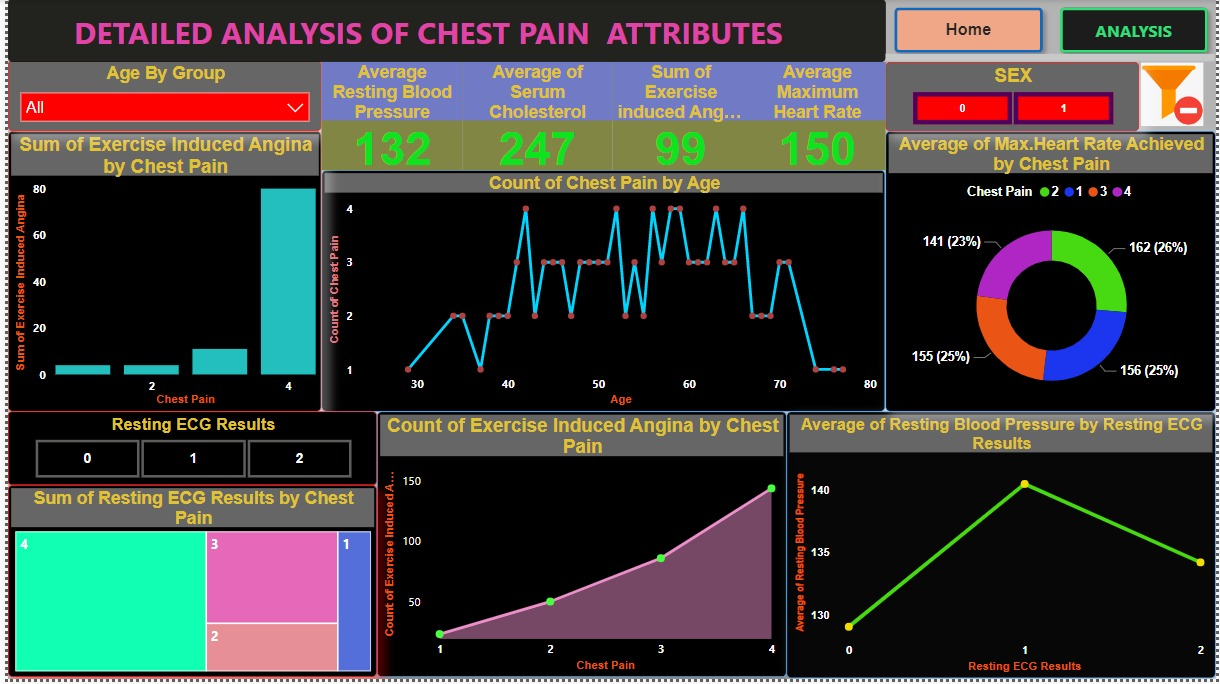

What the dashboard file says about the page in this screenshot:
{"tool":"powerbi","page":{"name":"ANALYSIS","canvas":[1280,720],"ordinal":1},"visuals":[{"type":"lineChart","fields":{"Category":["Heart Disease Dataset.Age"],"Y":["Count(Heart Disease Dataset.Chest Pain)"]},"box":[332.2,181.2,597.6,255.9],"z":0},{"type":"stackedAreaChart","fields":{"Category":["Heart Disease Dataset.Chest Pain"],"Y":["CountNonNull(Heart Disease Dataset.Exercise Induced Angina)"]},"box":[391,437.1,433.9,281.3],"z":1000},{"type":"lineChart","fields":{"Category":["Heart Disease Dataset.Resting ECG Results"],"Y":["Avg(Heart Disease Dataset.Resting Blood Pressure)"]},"box":[824.9,437.1,454.6,282.9],"z":2000},{"type":"donutChart","fields":{"Category":["Heart Disease Dataset.Chest Pain"],"Y":["Avg(Heart Disease Dataset.Max.Heart Rate Achieved)"]},"box":[929.8,139.9,349.7,297.2],"z":3000},{"type":"clusteredColumnChart","fields":{"Category":["Heart Disease Dataset.Chest Pain"],"Y":["Sum(Heart Disease Dataset.Exercise Induced Angina)"]},"box":[0,139.9,332.2,297.2],"z":4000},{"type":"treemap","fields":{"Values":["Sum(Heart Disease Dataset.Resting ECG Results)"],"Group":["Heart Disease Dataset.Chest Pain","Heart Disease Dataset.Resting ECG Results"]},"box":[0,515,391,203.4],"z":5000},{"type":"image","box":[1187.3,62,92.2,77.9],"z":6000},{"type":"slicer","title":"Age By Group","fields":{"Values":["Heart Disease Dataset.Age (bins)"]},"box":[0,65.2,332.2,74.7],"z":7000},{"type":"slicer","title":"SEX","fields":{"Values":["Heart Disease Dataset.Sex"]},"box":[929.8,66.8,268.6,73.1],"z":8000},{"type":"textbox","box":[0,0,929.8,66.8],"z":9000},{"type":"card","title":"Average of Serum Cholesterol","fields":{"Values":["Avg(Heart Disease Dataset.Serum Cholestrrol im Mg/Dl)"]},"box":[481.6,66.8,158.9,114.4],"z":10000},{"type":"card","title":"Average Resting Blood Pressure","fields":{"Values":["Avg(Heart Disease Dataset.Resting Blood Pressure)"]},"box":[332.2,66.8,149.4,114.4],"z":11000},{"type":"card","title":"Sum of Exercise induced Angine","fields":{"Values":["Sum(Heart Disease Dataset.Exercise Induced Angina)"]},"box":[640.5,66.8,144.6,114.4],"z":12000},{"type":"card","title":"Average Maximum Heart Rate","fields":{"Values":["Avg(Heart Disease Dataset.Max.Heart Rate Achieved)"]},"box":[785.2,66.8,144.6,114.4],"z":13000},{"type":"pageNavigator","box":[929.8,0,349.7,66.8],"z":14000},{"type":"slicer","title":"Resting ECG Results","fields":{"Values":["Heart Disease Dataset.Resting ECG Results"]},"box":[0,437.1,391,77.9],"z":15000}]}

Visuals, with their boxes in screenshot pixels (x1, y1, x2, y2), scaled from the page's 1280x720 canvas onto the 1220x684 screenshot:
lineChart - Heart Disease Dataset.Age x Count(Heart Disease Dataset.Chest Pain): [317,172,886,415]
stackedAreaChart - Heart Disease Dataset.Chest Pain x CountNonNull(Heart Disease Dataset.Exercise Induced Angina): [373,415,786,682]
lineChart - Heart Disease Dataset.Resting ECG Results x Avg(Heart Disease Dataset.Resting Blood Pressure): [786,415,1219,683]
donutChart - Heart Disease Dataset.Chest Pain x Avg(Heart Disease Dataset.Max.Heart Rate Achieved): [886,133,1219,415]
clusteredColumnChart - Heart Disease Dataset.Chest Pain x Sum(Heart Disease Dataset.Exercise Induced Angina): [0,133,317,415]
treemap - Sum(Heart Disease Dataset.Resting ECG Results) x Heart Disease Dataset.Chest Pain: [0,489,373,682]
image: [1132,59,1219,133]
"Age By Group" slicer: [0,62,317,133]
"SEX" slicer: [886,63,1142,133]
textbox: [0,0,886,63]
"Average of Serum Cholesterol" card: [459,63,610,172]
"Average Resting Blood Pressure" card: [317,63,459,172]
"Sum of Exercise induced Angine" card: [610,63,748,172]
"Average Maximum Heart Rate" card: [748,63,886,172]
pageNavigator: [886,0,1219,63]
"Resting ECG Results" slicer: [0,415,373,489]
